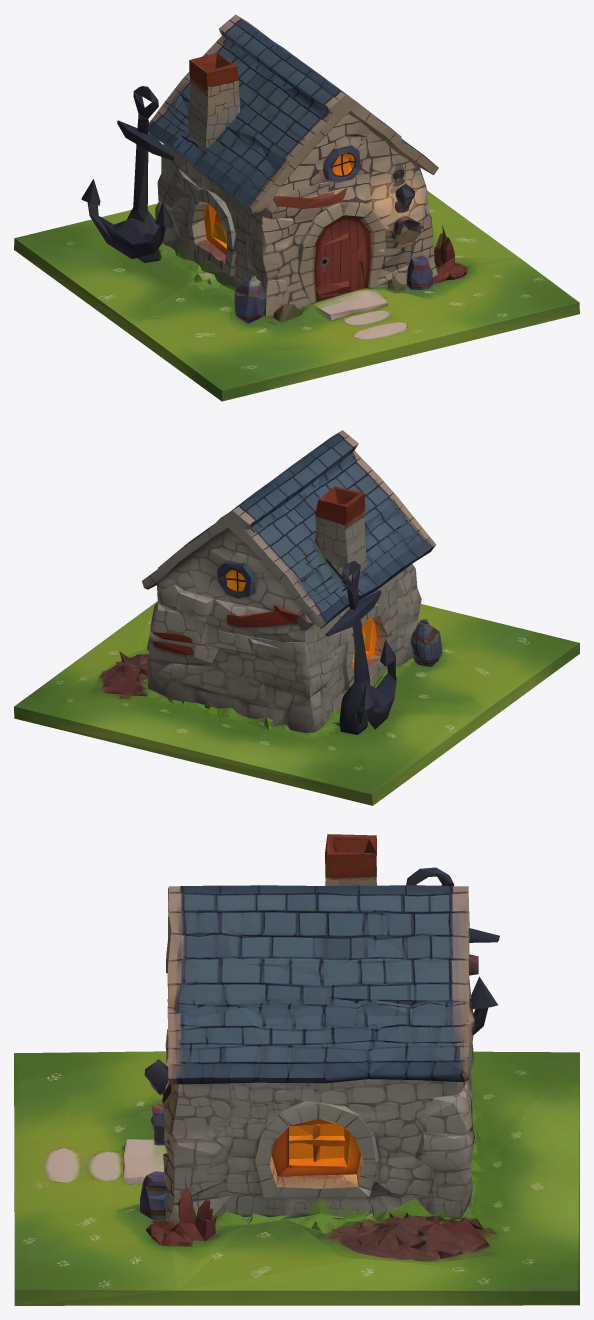
The model's file is home.glb.
The picture shows the model from 3 angles, top to bottom: view 1: azimuth 30°, elevation 25°; view 2: azimuth 150°, elevation 25°; view 3: azimuth 270°, elevation 25°; orthographic projection. The views are drawn at different scales.
Bounding box in the file's own units: 1.89 × 1.11 × 1.89.
Materials: 1 (1 with a texture image).
